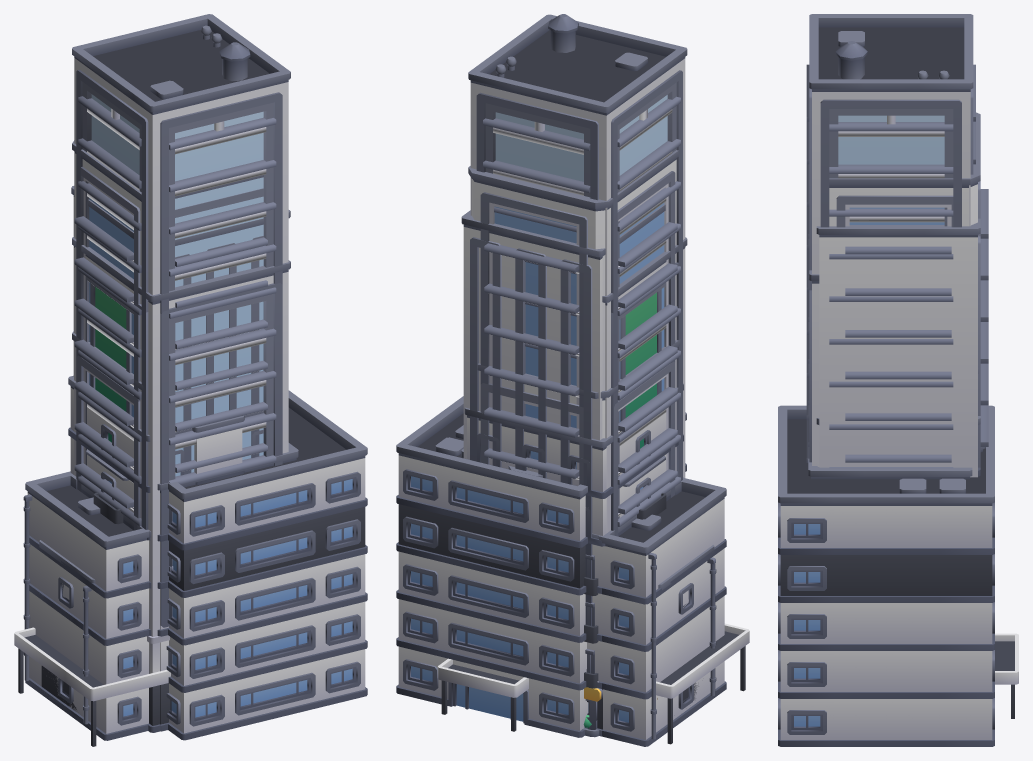
File: commercial.glb
3 views of the same model, side by side, from view 1: azimuth 30°, elevation 25°; view 2: azimuth 150°, elevation 25°; view 3: azimuth 270°, elevation 25° (orthographic).
Parts seen in each view (by area): view 1: building-n, building-skyscraper-d, building-j, building-skyscraper-c, building-skyscraper-b, building-skyscraper-e, building-skyscraper-a, building-k, building-m, building-l; view 2: building-n, building-skyscraper-d, building-skyscraper-b, building-j, building-skyscraper-e, building-m, building-skyscraper-a, building-skyscraper-c, building-k, building-i; view 3: building-n, building-skyscraper-d, building-skyscraper-e, building-skyscraper-b, building-skyscraper-c, building-l, building-skyscraper-a.
Boxes of the visible parts, x1=… form: building-n: x1=14, y1=390, x2=367, y2=746; building-skyscraper-d: x1=72, y1=14, x2=290, y2=731; building-j: x1=23, y1=471, x2=149, y2=740; building-skyscraper-c: x1=72, y1=237, x2=290, y2=732; building-skyscraper-b: x1=72, y1=140, x2=267, y2=518; building-skyscraper-e: x1=71, y1=186, x2=290, y2=480; building-skyscraper-a: x1=72, y1=331, x2=267, y2=530; building-k: x1=39, y1=540, x2=95, y2=728; building-m: x1=68, y1=375, x2=263, y2=629; building-l: x1=93, y1=443, x2=298, y2=731; building-n: x1=396, y1=396, x2=749, y2=744; building-skyscraper-d: x1=468, y1=14, x2=687, y2=530; building-skyscraper-b: x1=468, y1=150, x2=678, y2=730; building-j: x1=583, y1=478, x2=726, y2=746; building-skyscraper-e: x1=461, y1=204, x2=665, y2=729; building-m: x1=464, y1=383, x2=683, y2=736; building-skyscraper-a: x1=477, y1=339, x2=680, y2=729; building-skyscraper-c: x1=525, y1=237, x2=687, y2=532; building-k: x1=657, y1=545, x2=716, y2=735; building-i: x1=584, y1=477, x2=684, y2=729; building-n: x1=778, y1=405, x2=1018, y2=746; building-skyscraper-d: x1=806, y1=14, x2=975, y2=467; building-skyscraper-e: x1=816, y1=218, x2=980, y2=477; building-skyscraper-b: x1=808, y1=112, x2=988, y2=462; building-skyscraper-c: x1=806, y1=270, x2=953, y2=468; building-l: x1=808, y1=447, x2=985, y2=479; building-skyscraper-a: x1=808, y1=368, x2=988, y2=457.
Size of the model in its own units: 2.32 by 5.47 by 1.82.
Materials: 1 (1 with a texture image).
